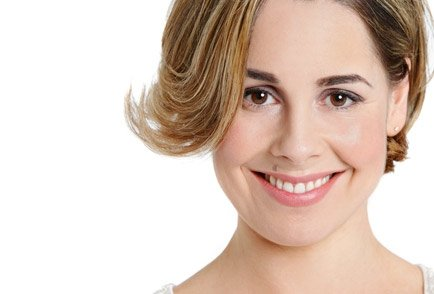tahilalat: (272, 163, 279, 170)
